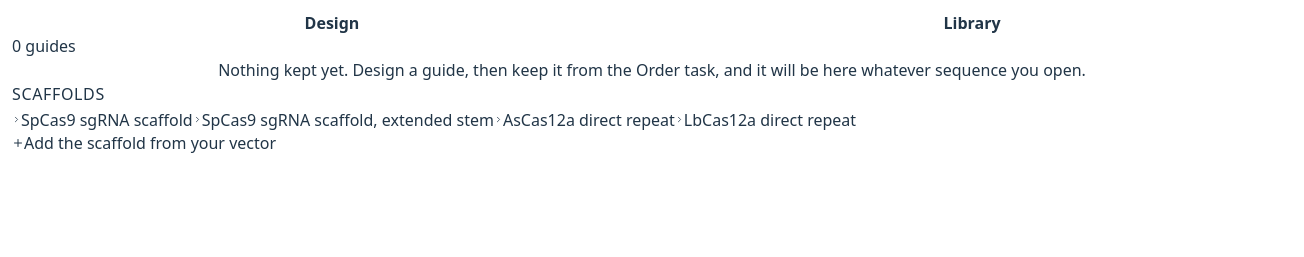
Test: the library view › opens a scaffold to show the sequence, and shuts it again
Check: the text "GTTTTAGAGCTAGAAATAGCAAGTTAAAATAAGGCTAGTCCGTTATCAACTTGAAAAAGTGGCACCGAGTCGGTGC" is not shown
Click the button "SpCas9 sgRNA scaffold" at (102, 120), box [12,108,193,132]
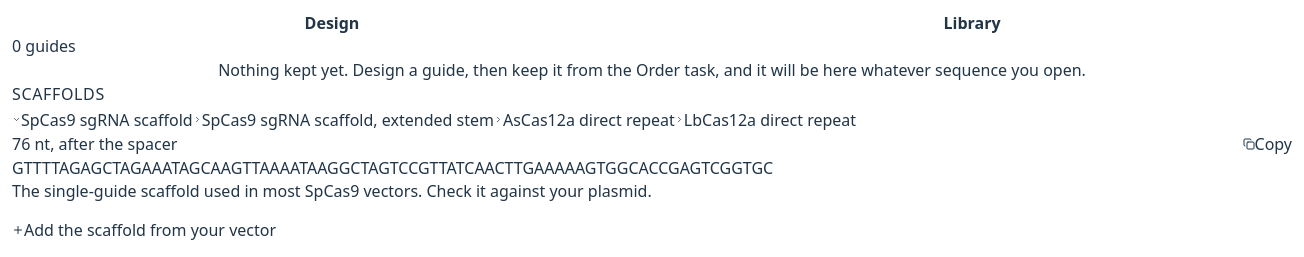
Check: the text "GTTTTAGAGCTAGAAATAGCAAGTTAAAATAAGGCTAGTCCGTTATCAACTTGAAAAAGTGGCACCGAGTCGGTGC" is shown, box [12,156,773,178]
Check: the button "Copy" is shown, box [1242,132,1292,154]
Click the button "SpCas9 sgRNA scaffold" at (102, 120), box [12,108,193,132]
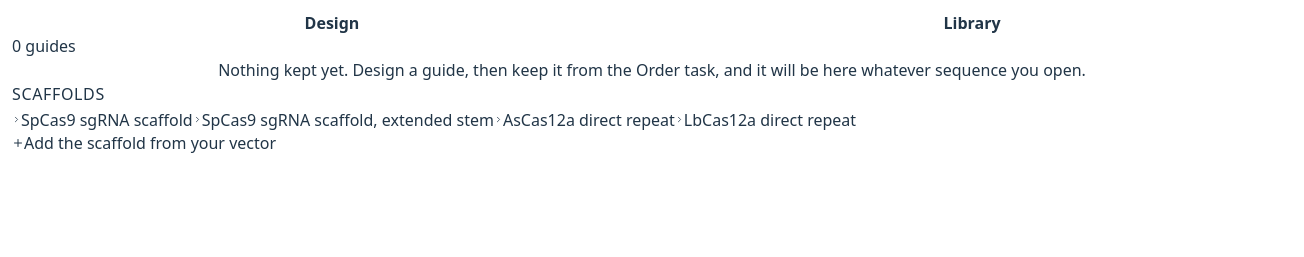
Check: the text "GTTTTAGAGCTAGAAATAGCAAGTTAAAATAAGGCTAGTCCGTTATCAACTTGAAAAAGTGGCACCGAGTCGGTGC" is gone
